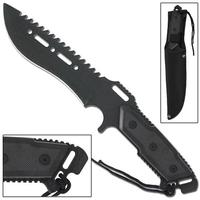knife: (1, 1, 194, 192)
